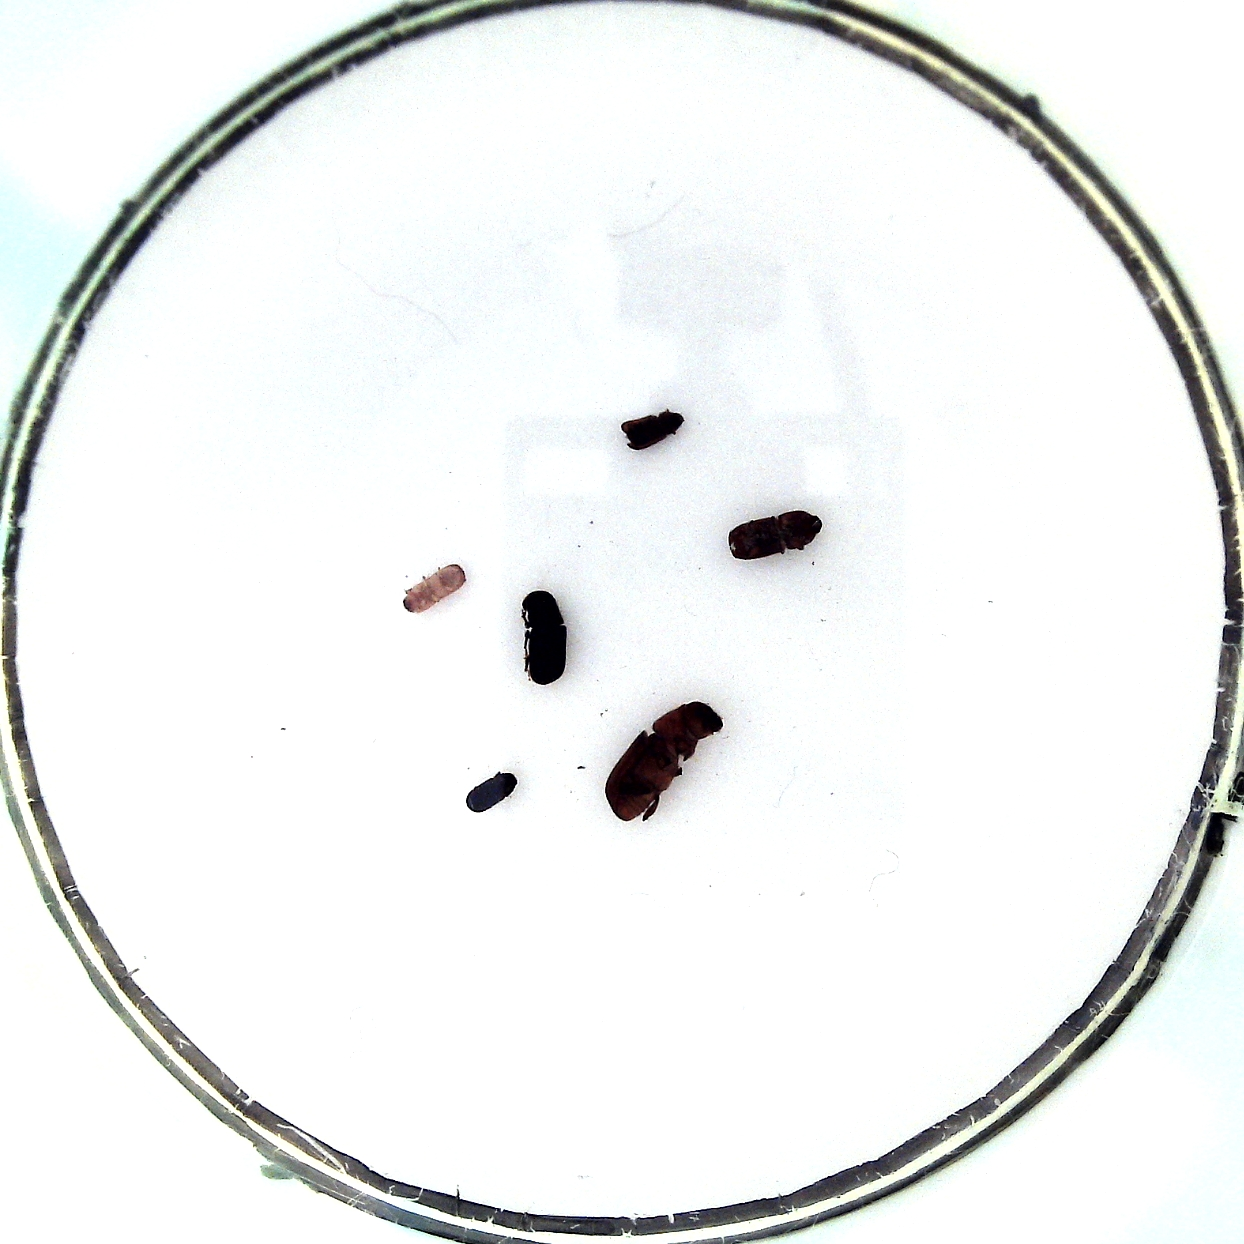Leconte: (604, 701, 723, 822)
acuminatus: (465, 772, 517, 811)
armandi: (521, 589, 567, 685)
coleoptera: (403, 565, 466, 614), (621, 412, 684, 450)
linnaeus: (729, 509, 822, 560)
